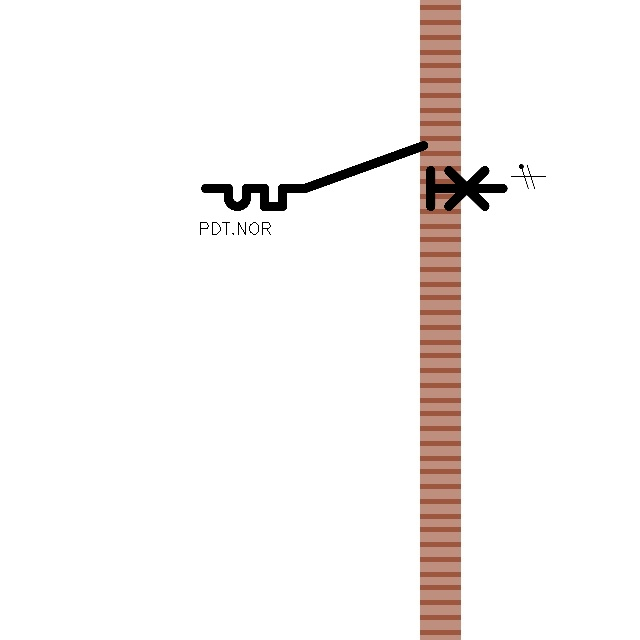interruptor_termomagnetico: (198, 138, 510, 214)
